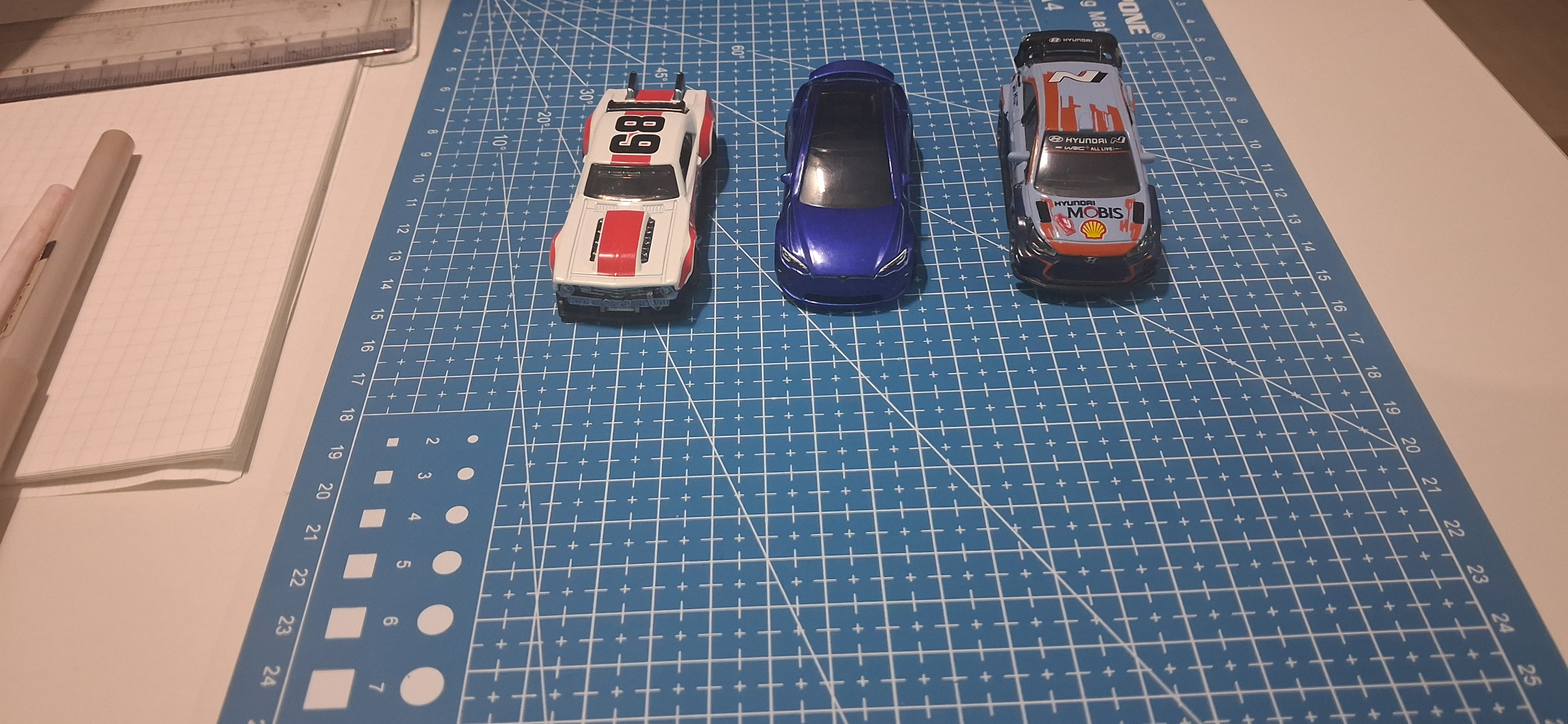Camaro: (559, 45, 734, 338)
Hyundai_I20_WRC: (970, 17, 1188, 327)
Tesla_Model_S_Plaid: (751, 35, 953, 332)
